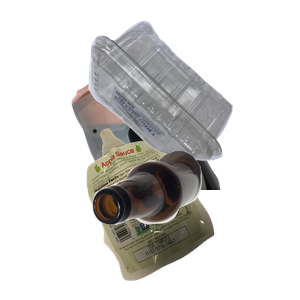glass: (90, 148, 300, 300)
metal: (69, 58, 300, 238)
plastic: (86, 18, 300, 171)
trash: (84, 126, 291, 300)
